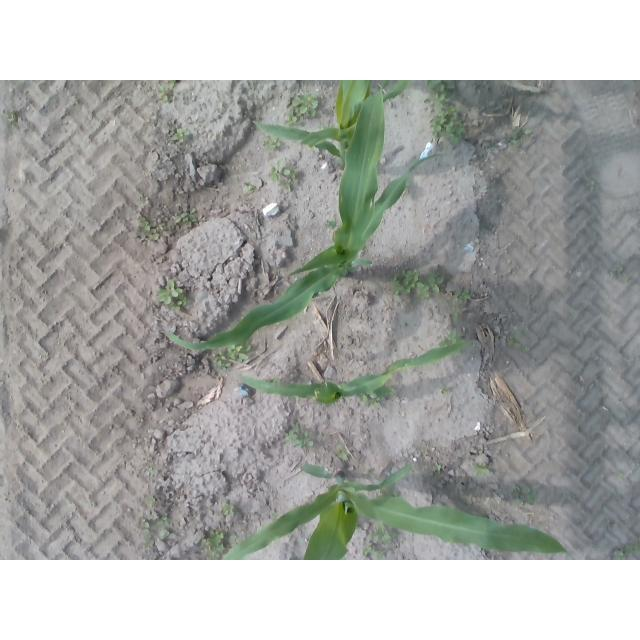Maize: (159, 82, 448, 350), (222, 462, 575, 560), (236, 339, 473, 405), (253, 81, 412, 163)
Weeds: (423, 80, 466, 145), (392, 266, 444, 301), (285, 92, 320, 129), (213, 345, 256, 372), (268, 159, 301, 194), (140, 514, 171, 551), (156, 279, 188, 311), (282, 420, 315, 450), (506, 483, 542, 509), (200, 528, 224, 561), (138, 213, 167, 240), (370, 523, 398, 545), (173, 207, 199, 229), (509, 124, 532, 147), (611, 542, 640, 560), (360, 542, 388, 560), (361, 392, 383, 411), (437, 327, 459, 345), (171, 126, 193, 142), (156, 85, 173, 104), (332, 444, 350, 461), (3, 109, 18, 128), (474, 462, 491, 478), (456, 286, 473, 302), (507, 330, 522, 347), (220, 501, 237, 515), (264, 137, 282, 149), (322, 219, 338, 230), (452, 305, 464, 319), (366, 468, 378, 481), (440, 384, 452, 396), (139, 192, 150, 205), (242, 182, 255, 193), (615, 261, 625, 275), (147, 495, 158, 507), (145, 465, 156, 476), (433, 461, 444, 472), (625, 273, 635, 283), (166, 80, 178, 88), (230, 531, 238, 542), (586, 179, 594, 189), (269, 377, 281, 383), (271, 511, 281, 518), (523, 345, 530, 352), (617, 471, 623, 478), (477, 452, 483, 457)
